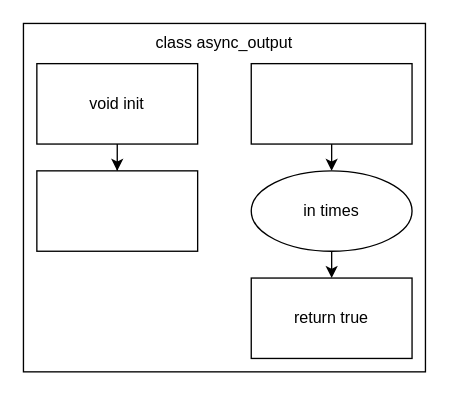
This 449x395 diagram has some shape labels left out. The shapes that lost their labels are listed below. From the top down, each one's box as (x1, y1, x2, y2) in pixels, then its label:
(250, 62, 412, 144): bool check
(36, 170, 198, 251): define start/end
